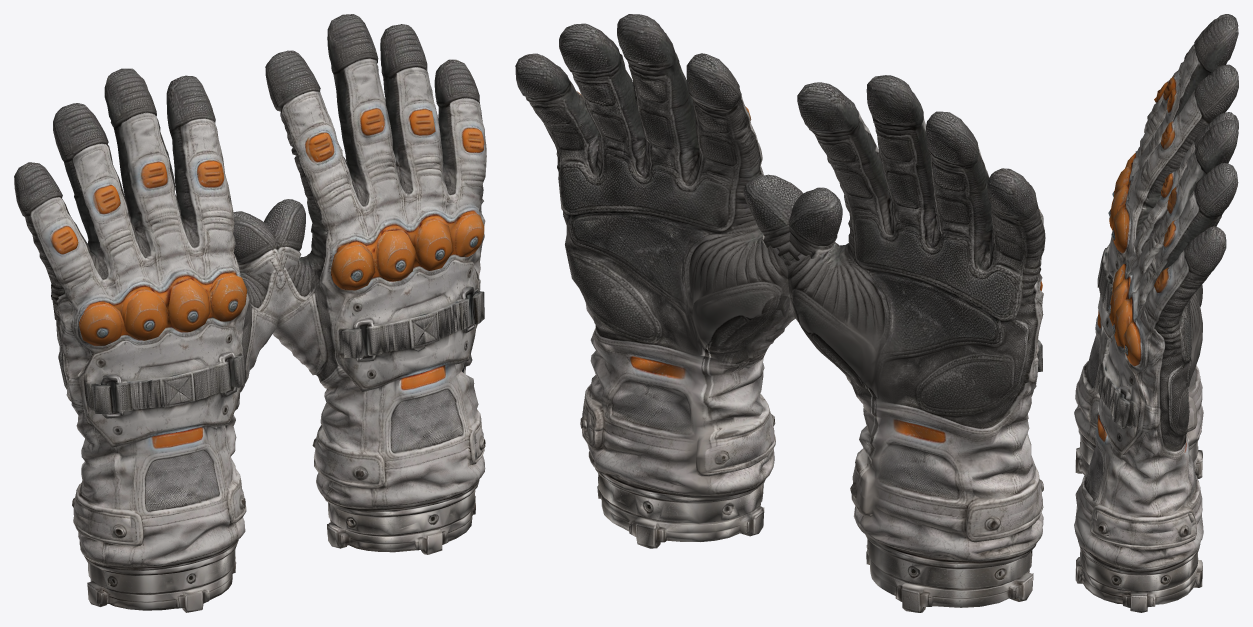
The model's file is suit_glove.glb.
3 renders of one model, left to right at view 1: azimuth 30°, elevation 25°; view 2: azimuth 150°, elevation 25°; view 3: azimuth 270°, elevation 25°, orthographic. The views are drawn at different scales.
Visible parts, largest first — view 1: suit_glove_L, suit_glove; view 2: suit_glove_L, suit_glove; view 3: suit_glove, suit_glove_L.
Boxes of the visible parts, <box> form: suit_glove_L: <box>14,68,305,612</box>; suit_glove: <box>233,14,486,554</box>; suit_glove_L: <box>743,75,1045,612</box>; suit_glove: <box>515,14,842,548</box>; suit_glove: <box>1074,112,1238,612</box>; suit_glove_L: <box>1074,14,1238,478</box>.
Bounding box in the file's own units: 0.3461 × 0.3514 × 0.1142.
2 materials, 2 textured.
